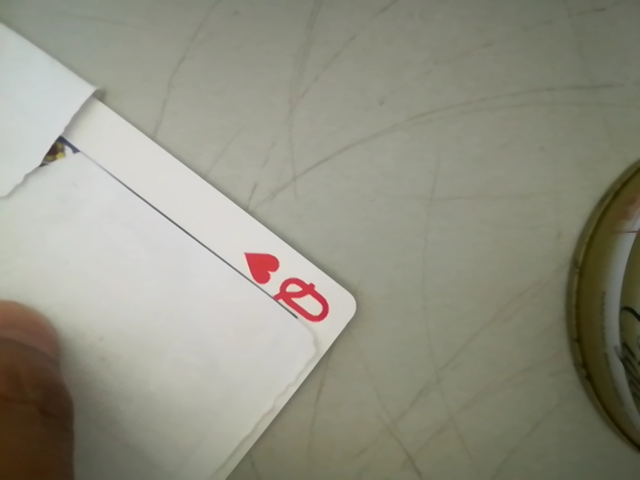hx q: (231, 248, 347, 330)
